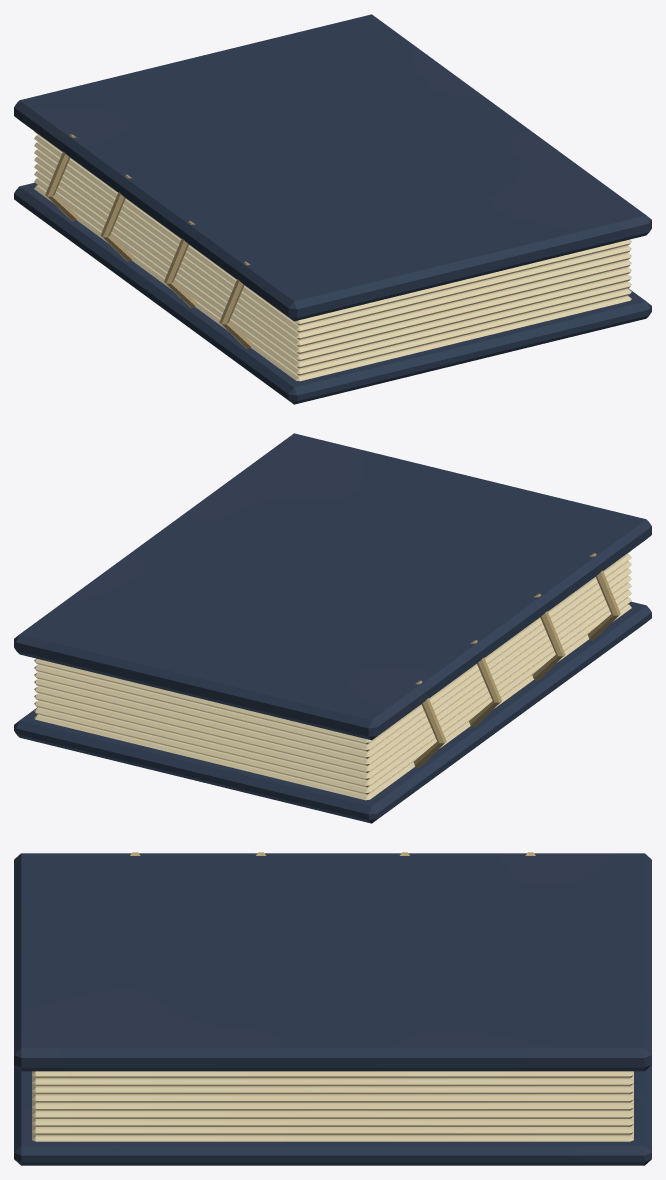
File: PR_Ledger.glb
The picture shows the model from 3 angles, top to bottom: view 1: azimuth 30°, elevation 25°; view 2: azimuth 150°, elevation 25°; view 3: azimuth 270°, elevation 25°; orthographic projection. The views are drawn at different scales.
Visible parts, largest first — view 1: PR_Ledger; view 2: PR_Ledger; view 3: PR_Ledger.
Part boxes in pixels (x1,y1,x2,y2): PR_Ledger: (14, 14, 651, 404); PR_Ledger: (14, 433, 651, 823); PR_Ledger: (14, 852, 651, 1165).
Bounding box in the file's own units: 0.2781 × 0.0731 × 0.355.
3 materials, 2 textured.
